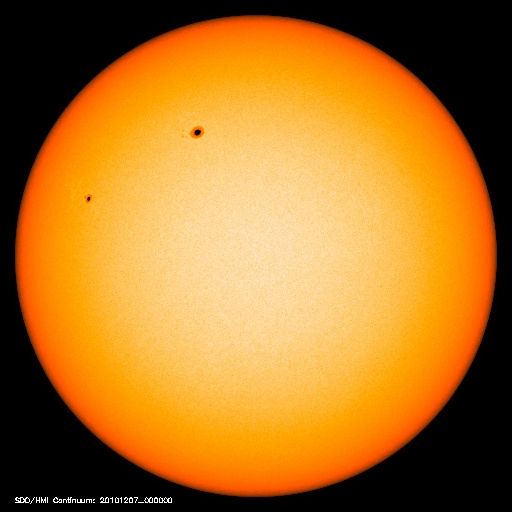sunspot: (175, 118, 211, 147), (75, 184, 102, 211)
